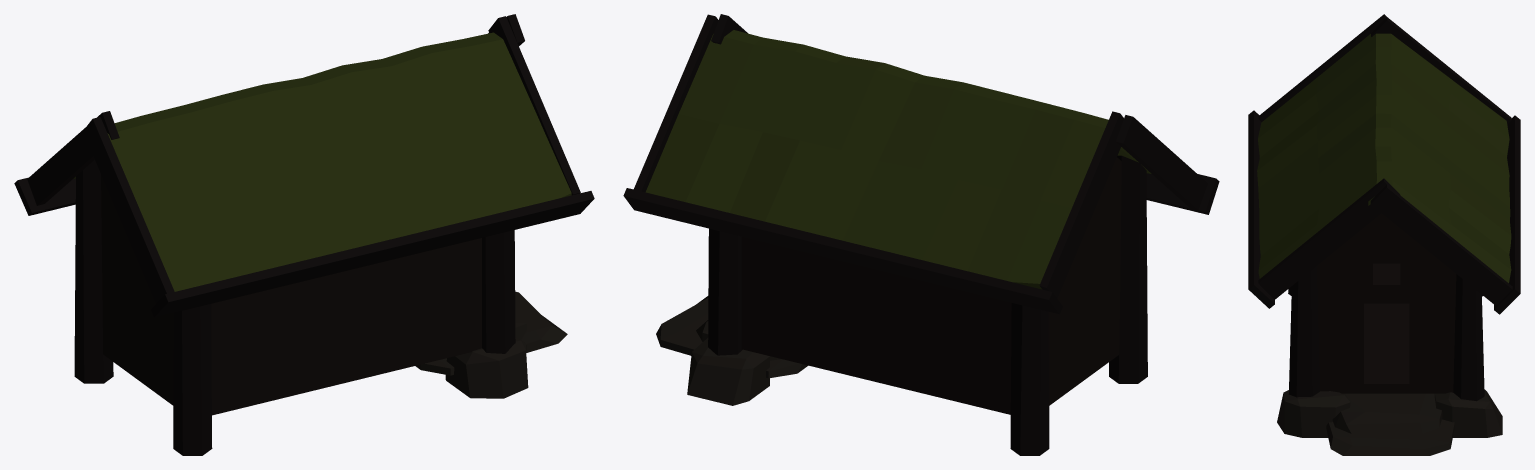
Rendered from Village_SodHouse_3.fbx.
The picture shows the model from 3 angles, left to right: view 1: azimuth 30°, elevation 25°; view 2: azimuth 150°, elevation 25°; view 3: azimuth 270°, elevation 25°; orthographic projection. The views are drawn at different scales.
Visible parts, largest first — view 1: Village_SodHouse_3; view 2: Village_SodHouse_3; view 3: Village_SodHouse_3.
Part boxes in pixels (bbox=[...]): Village_SodHouse_3: bbox=[14, 14, 594, 455]; Village_SodHouse_3: bbox=[623, 14, 1219, 455]; Village_SodHouse_3: bbox=[1248, 14, 1520, 455].
Size of the model in its own units: 983 by 658 by 604.
